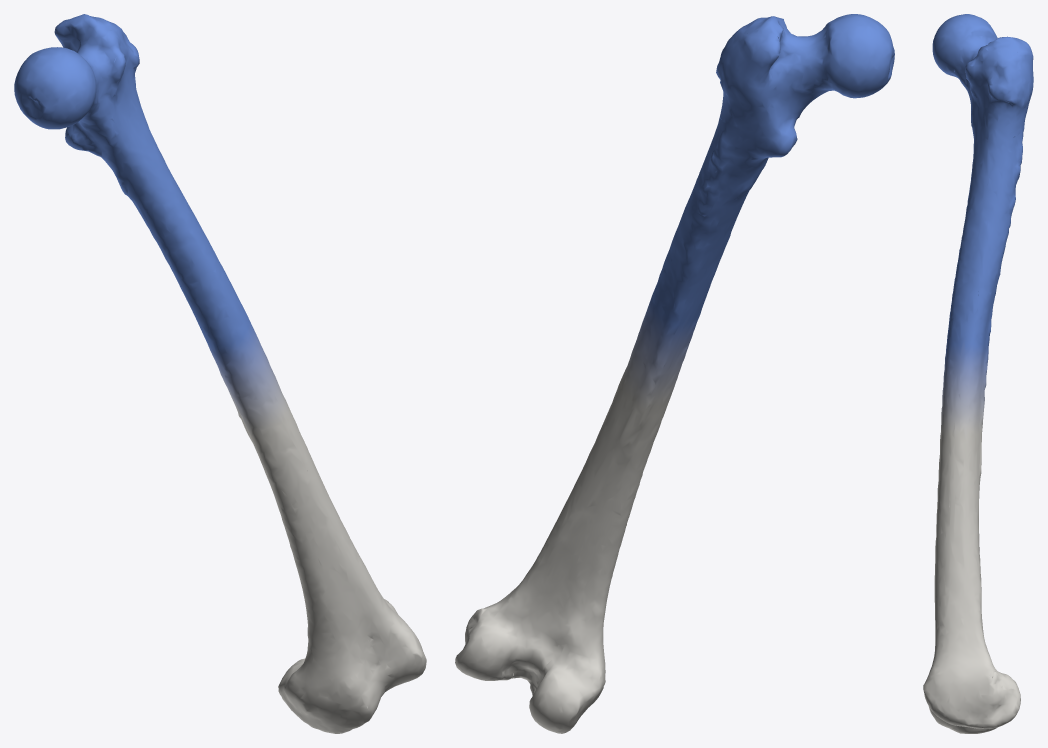
Rendered from femur.glb.
3 renders of one model, left to right at view 1: azimuth 30°, elevation 25°; view 2: azimuth 150°, elevation 25°; view 3: azimuth 270°, elevation 25°, orthographic. The views are drawn at different scales.
Bounding box in the file's own units: 1.11 × 2 × 0.3294.
